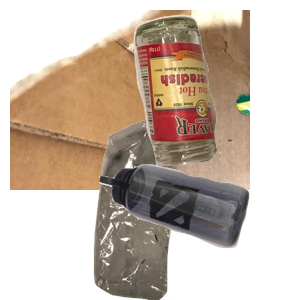cardboard: (10, 10, 250, 190)
glass: (131, 12, 300, 170)
plastic: (97, 162, 300, 300)
trash: (70, 120, 256, 300)
